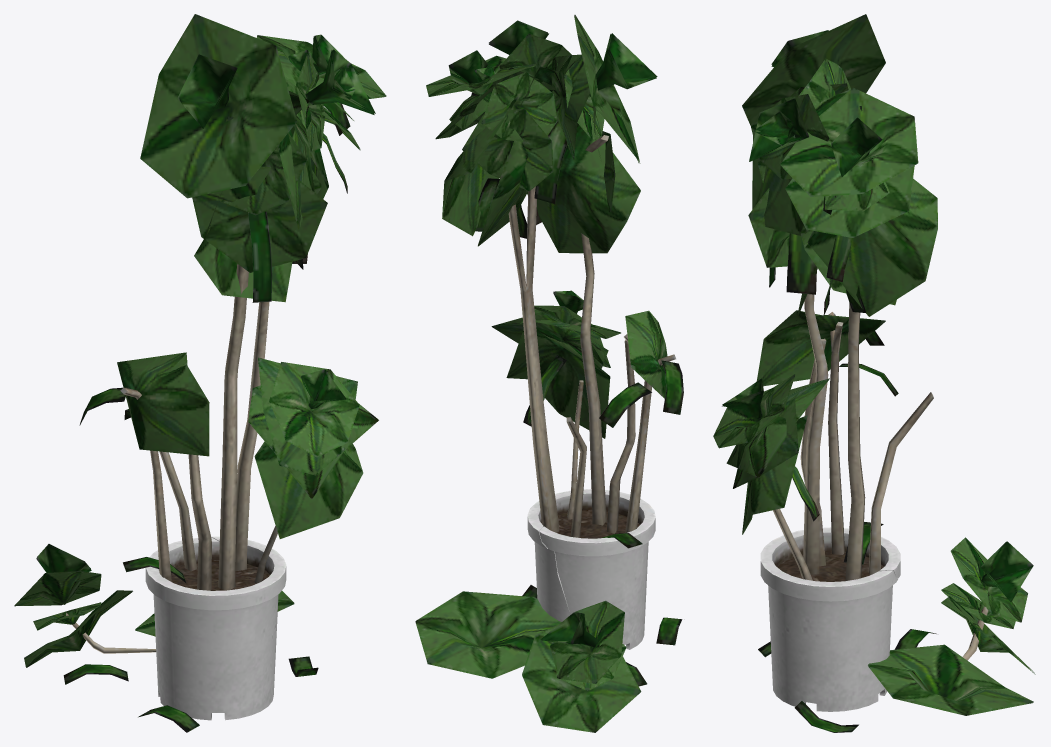
Rendered from sm10_013_brokenindoorplant02a.fbx.
The picture shows the model from 3 angles, left to right: view 1: azimuth 30°, elevation 25°; view 2: azimuth 150°, elevation 25°; view 3: azimuth 270°, elevation 25°; orthographic projection. The views are drawn at different scales.
Parts seen in each view (by area): view 1: LOD_1_Group_2_Sub_1__sm10_002_IndoorPlant02A_A_Mat, LOD_1_Group_1_Sub_1__sm10_002_IndoorPlant02A_A_Mat, LOD_1_Group_0_Sub_1__sm10_002_IndoorPlant02A_A_Mat, LOD_1_Group_3_Sub_1__sm10_002_IndoorPlant02A_A_Mat; view 2: LOD_1_Group_2_Sub_1__sm10_002_IndoorPlant02A_A_Mat, LOD_1_Group_1_Sub_1__sm10_002_IndoorPlant02A_A_Mat, LOD_1_Group_0_Sub_1__sm10_002_IndoorPlant02A_A_Mat, LOD_1_Group_3_Sub_1__sm10_002_IndoorPlant02A_A_Mat, LOD_1_Group_7_Sub_1__sm10_002_IndoorPlant02A_A_Mat, LOD_1_Group_9_Sub_1__sm10_002_IndoorPlant02A_A_Mat; view 3: LOD_1_Group_2_Sub_1__sm10_002_IndoorPlant02A_A_Mat, LOD_1_Group_1_Sub_1__sm10_002_IndoorPlant02A_A_Mat, LOD_1_Group_0_Sub_1__sm10_002_IndoorPlant02A_A_Mat, LOD_1_Group_7_Sub_1__sm10_002_IndoorPlant02A_A_Mat, LOD_1_Group_3_Sub_1__sm10_002_IndoorPlant02A_A_Mat.
Part boxes in pixels (left/top/right/bottom): LOD_1_Group_2_Sub_1__sm10_002_IndoorPlant02A_A_Mat: left=140, top=14, right=386, bottom=538; LOD_1_Group_1_Sub_1__sm10_002_IndoorPlant02A_A_Mat: left=63, top=212, right=318, bottom=732; LOD_1_Group_0_Sub_1__sm10_002_IndoorPlant02A_A_Mat: left=145, top=536, right=286, bottom=720; LOD_1_Group_3_Sub_1__sm10_002_IndoorPlant02A_A_Mat: left=14, top=544, right=132, bottom=667; LOD_1_Group_2_Sub_1__sm10_002_IndoorPlant02A_A_Mat: left=426, top=15, right=657, bottom=438; LOD_1_Group_1_Sub_1__sm10_002_IndoorPlant02A_A_Mat: left=508, top=135, right=682, bottom=686; LOD_1_Group_0_Sub_1__sm10_002_IndoorPlant02A_A_Mat: left=527, top=489, right=655, bottom=649; LOD_1_Group_3_Sub_1__sm10_002_IndoorPlant02A_A_Mat: left=522, top=600, right=641, bottom=732; LOD_1_Group_7_Sub_1__sm10_002_IndoorPlant02A_A_Mat: left=415, top=591, right=561, bottom=678; LOD_1_Group_9_Sub_1__sm10_002_IndoorPlant02A_A_Mat: left=661, top=360, right=683, bottom=414; LOD_1_Group_2_Sub_1__sm10_002_IndoorPlant02A_A_Mat: left=713, top=14, right=937, bottom=534; LOD_1_Group_1_Sub_1__sm10_002_IndoorPlant02A_A_Mat: left=756, top=294, right=936, bottom=732; LOD_1_Group_0_Sub_1__sm10_002_IndoorPlant02A_A_Mat: left=760, top=527, right=900, bottom=711; LOD_1_Group_7_Sub_1__sm10_002_IndoorPlant02A_A_Mat: left=868, top=644, right=1033, bottom=715; LOD_1_Group_3_Sub_1__sm10_002_IndoorPlant02A_A_Mat: left=941, top=537, right=1035, bottom=674.
Bounding box in the file's own units: 1.09 × 2.47 × 1.05.
